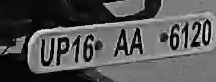0: (200, 15, 213, 49)
1: (180, 19, 191, 51), (70, 35, 82, 63)
2: (190, 21, 202, 51)
6: (167, 20, 183, 54), (81, 32, 96, 64)
A: (111, 26, 130, 59), (128, 26, 146, 59)
P: (55, 36, 71, 67)
U: (36, 36, 57, 68)
